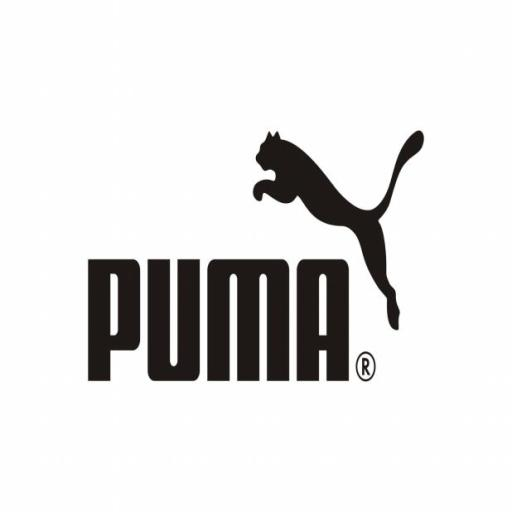Puma: (75, 122, 428, 391)
